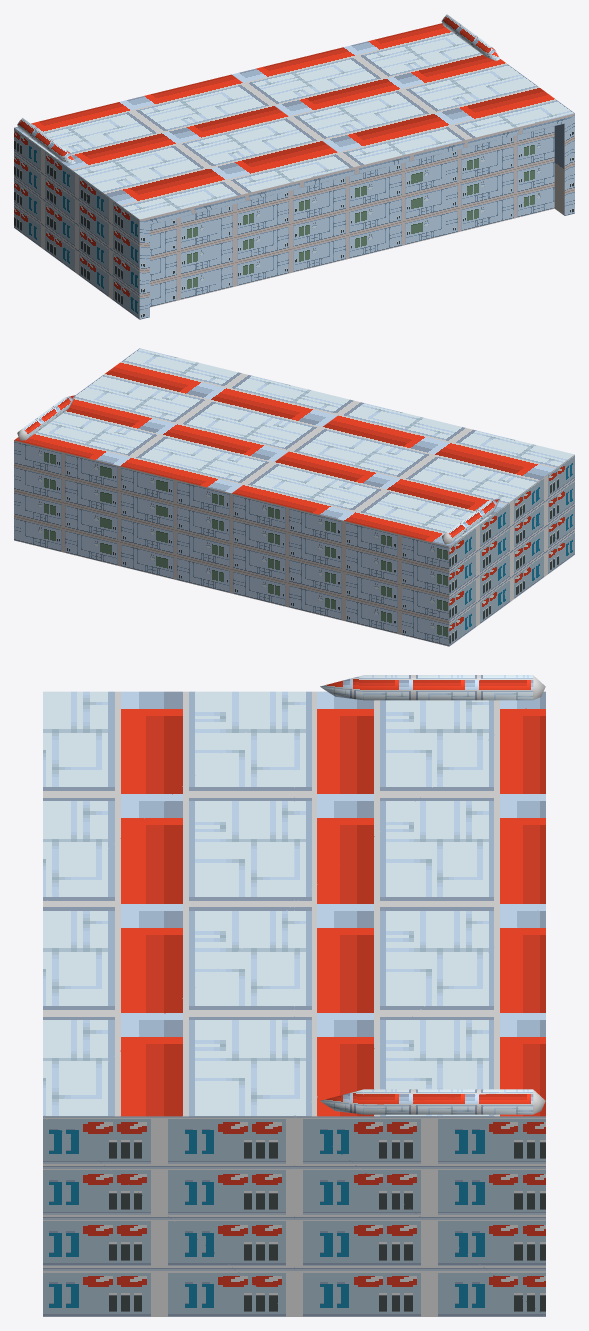
The model's file is 3651kg_case_18.gltf.
3 renders of one model, top to bottom at view 1: azimuth 30°, elevation 25°; view 2: azimuth 150°, elevation 25°; view 3: azimuth 270°, elevation 25°, orthographic. The views are drawn at different scales.
Parts seen in each view (by area): view 1: 3651kg_case_18; view 2: 3651kg_case_18; view 3: 3651kg_case_18.
Boxes of the visible parts, x1=… form: 3651kg_case_18: x1=14, y1=14, x2=574, y2=319; 3651kg_case_18: x1=14, y1=348, x2=574, y2=646; 3651kg_case_18: x1=43, y1=675, x2=545, y2=1316.
Bounding box in the file's own units: 2 × 0.4875 × 1.
3 materials, 3 textured.
